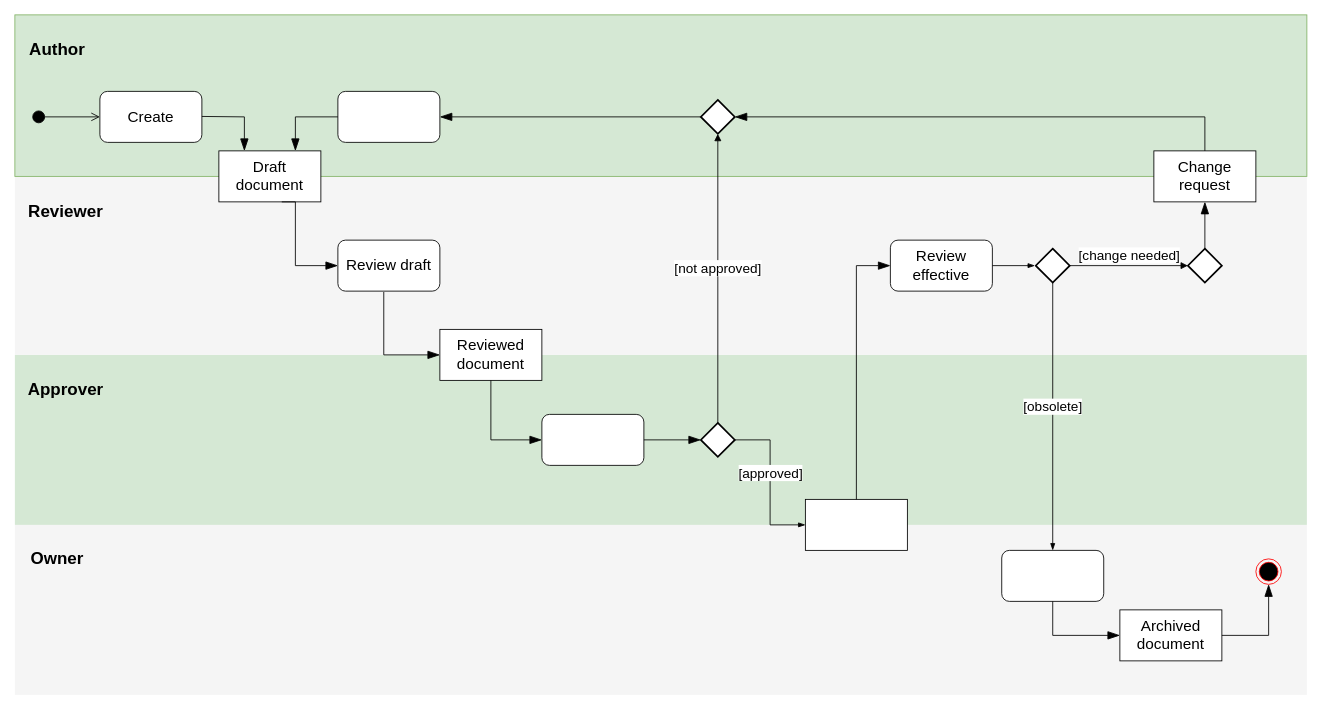
This 1322x710 diagram has some shape labels left out. Here are the shapes that lost their labels. From the top down, the centre of each, then its label:
(388,116): Update
(592,439): Approve
(856,524): Effective document
(1052,575): Archive
